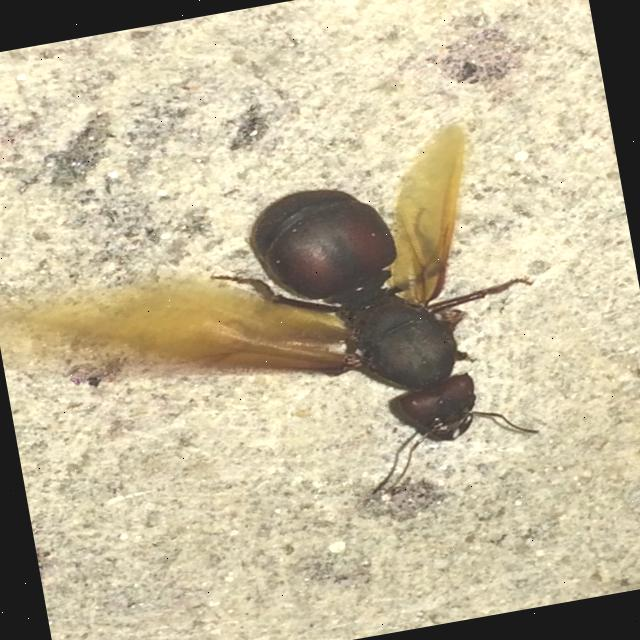Alive-Female-Alate: (0, 113, 569, 555)
